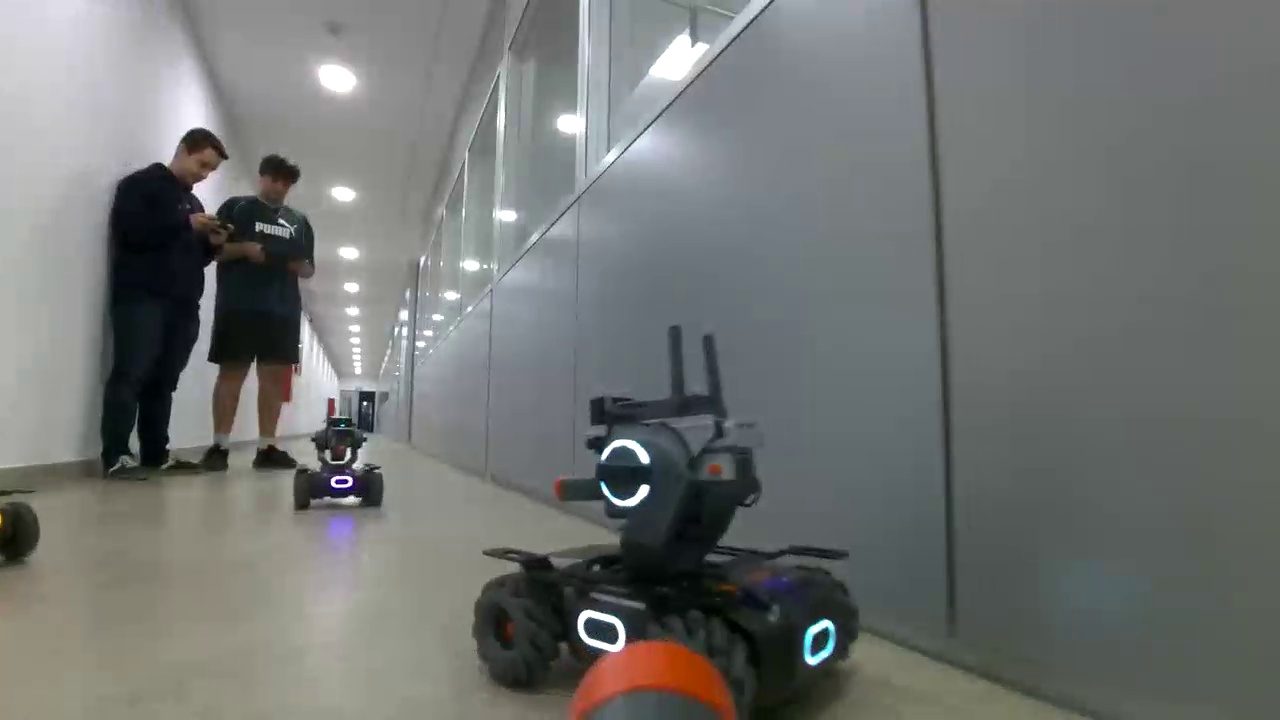robot: (473, 390, 865, 698), (292, 415, 384, 512)
